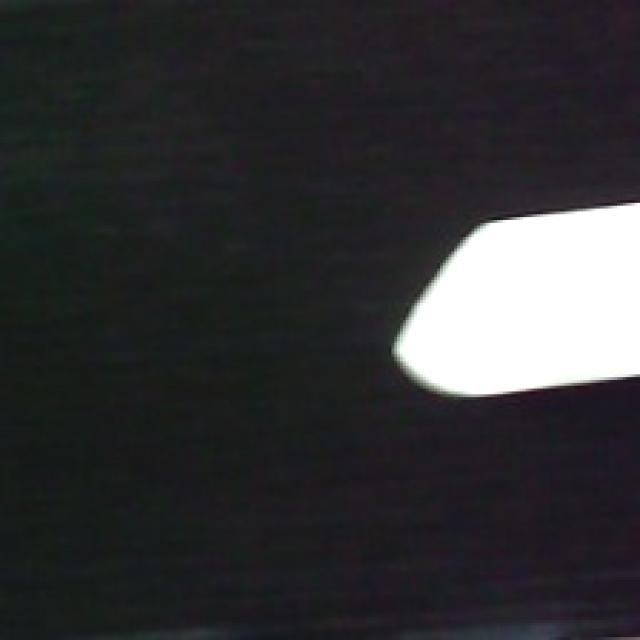defected: (385, 200, 640, 400)
